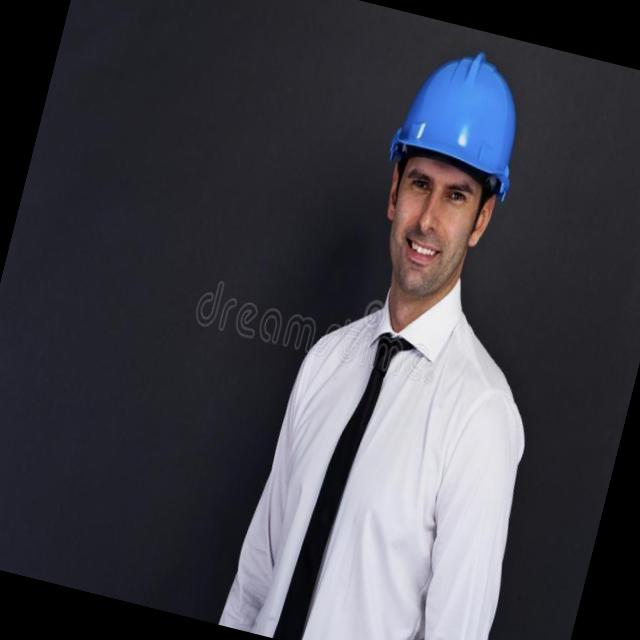helmet: (375, 35, 553, 214)
no-vest: (214, 274, 565, 640)
